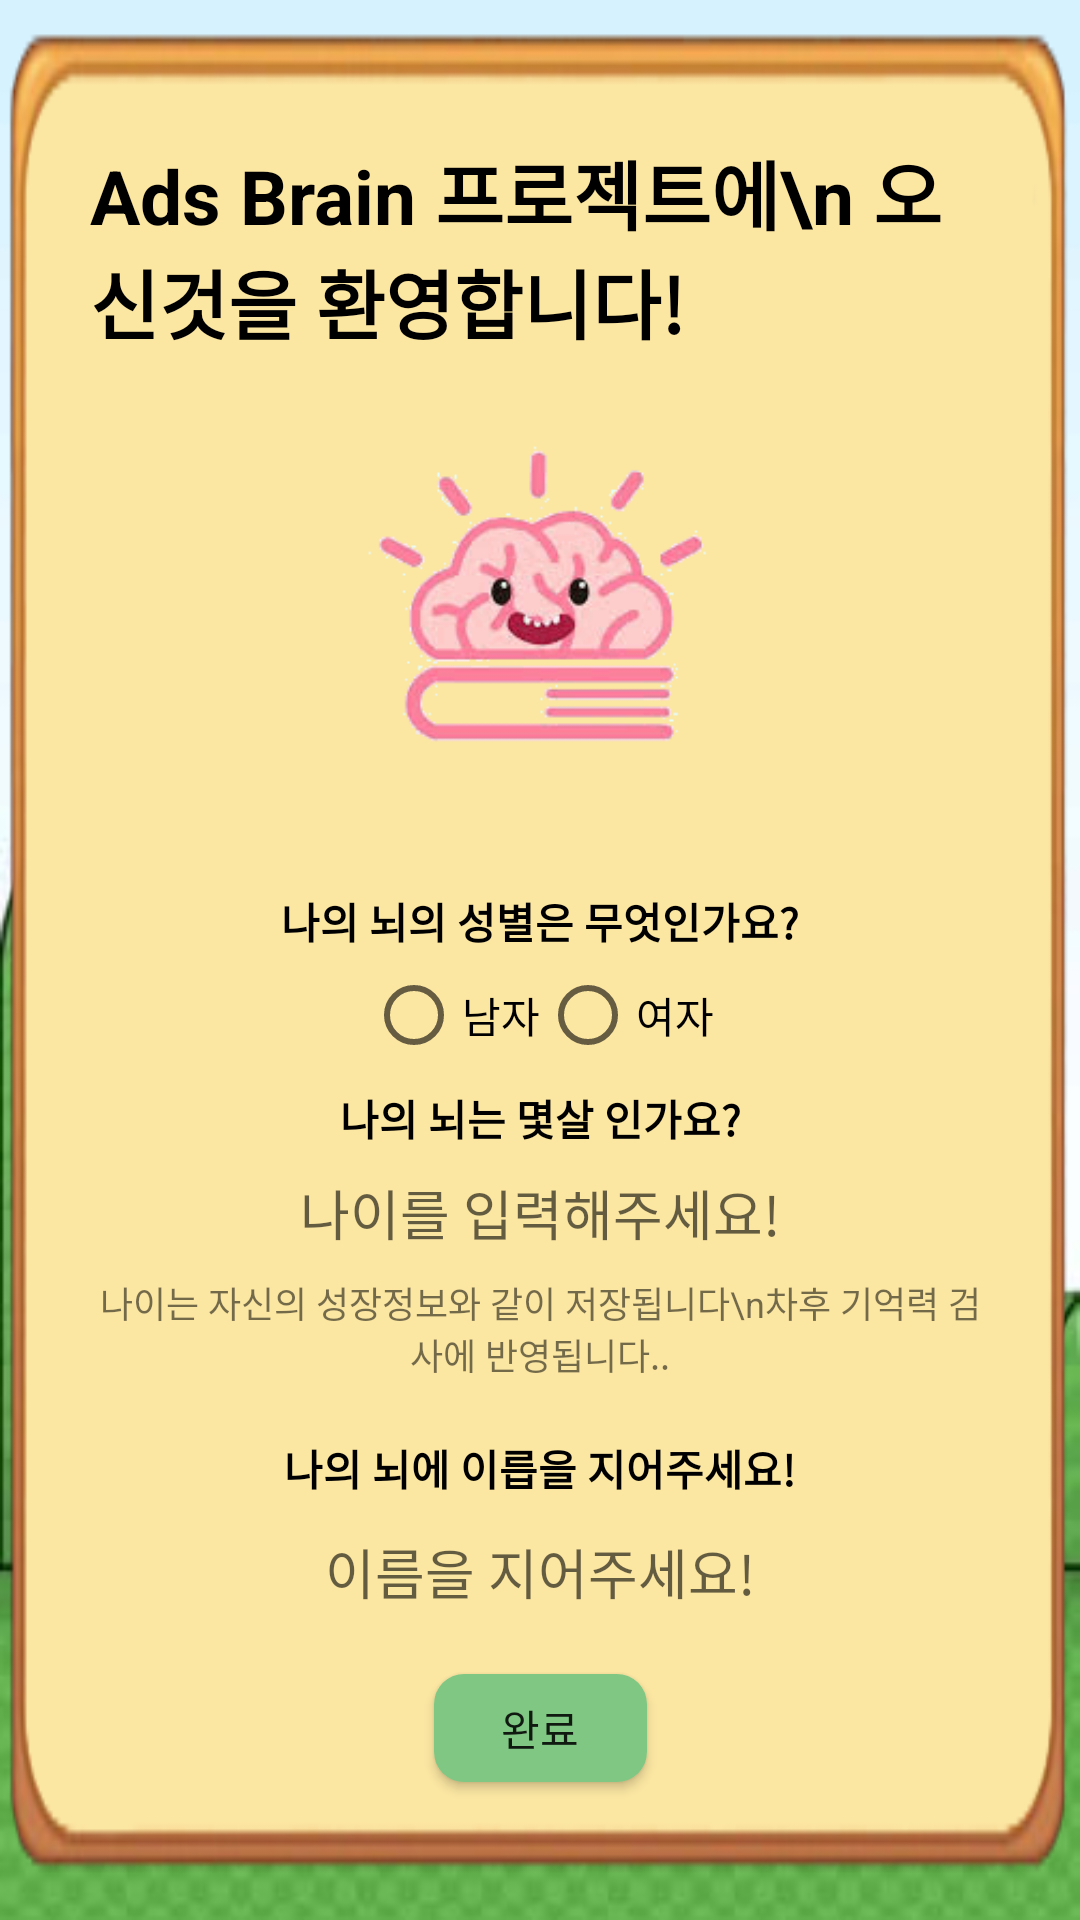

Icons on this 1080×1920 Android screen, each with the point to tap as (x,y):
brain character grade one: (537,593)
